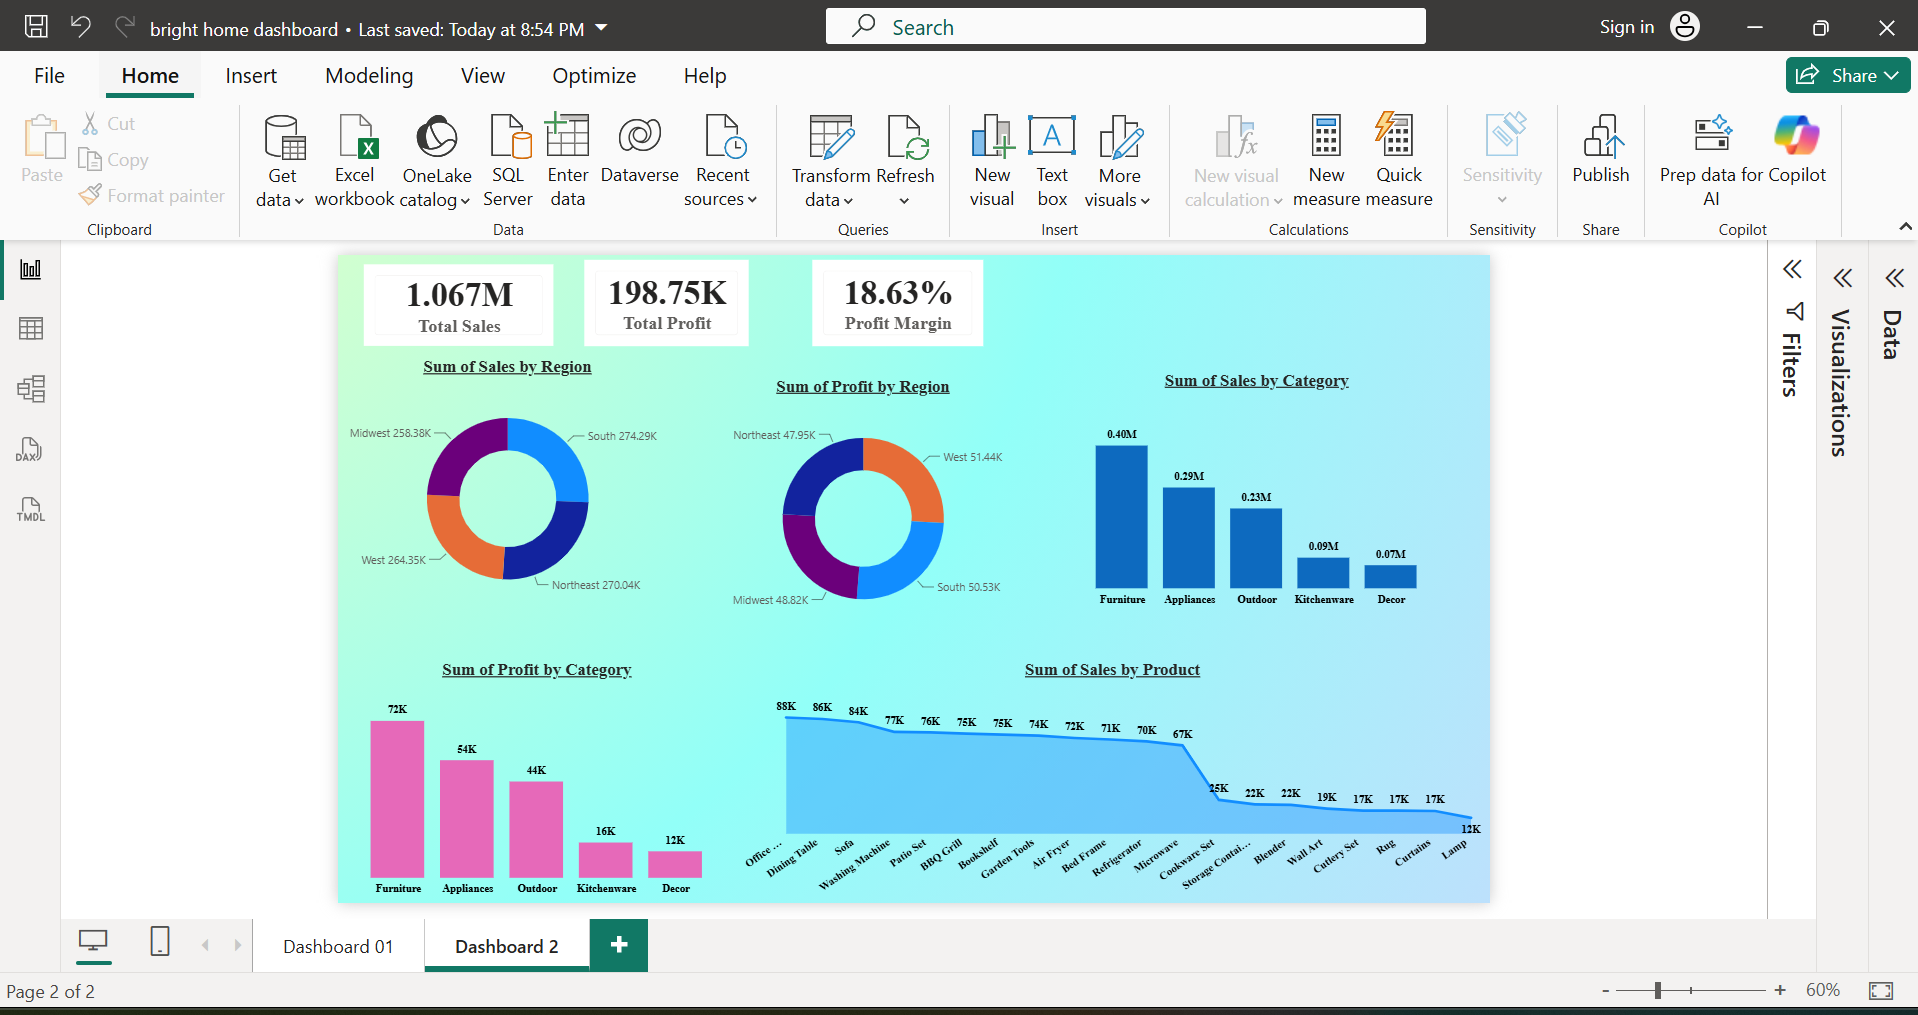

What the dashboard file says about the page in this screenshot:
{"tool":"powerbi","page":{"name":"Dashboard 2","canvas":[1280,720],"ordinal":1},"visuals":[{"type":"cardVisual","title":"fffff","fields":{"Data":["Sum(brighthome_dataset.Revenue)"]},"box":[23.9,4.8,221.7,101.7],"z":0},{"type":"cardVisual","title":"fffff","fields":{"Data":["Sum(brighthome_dataset.Profit)"]},"box":[268.3,0,193.3,106.7],"z":1000},{"type":"cardVisual","title":"fffff","fields":{"Data":["brighthome_dataset.Profit Margin"]},"box":[521.7,0,200,106.7],"z":2000},{"type":"donutChart","fields":{"Category":["brighthome_dataset.Region"],"Y":["Sum(brighthome_dataset.Sales)"]},"box":[0,113.3,376.7,283.3],"z":3000},{"type":"donutChart","fields":{"Category":["brighthome_dataset.Region"],"Y":["Sum(brighthome_dataset.Profit)"]},"box":[398.3,135,370,284],"z":4000},{"type":"columnChart","fields":{"Y":["Sum(brighthome_dataset.Sales)"],"Category":["brighthome_dataset.Category"]},"box":[806,128,428.3,270],"z":5000},{"type":"columnChart","fields":{"Category":["brighthome_dataset.Category"],"Y":["Sum(brighthome_dataset.Profit)"]},"box":[0,450,442,270],"z":6000},{"type":"areaChart","fields":{"Category":["brighthome_dataset.Product"],"Y":["Sum(brighthome_dataset.Sales)"]},"box":[442,450,838,270],"z":7000}]}

Visuals, with their boxes on the page's 1280x720 design canvas (x1, y1, x2, y2). These are canvas units, not pixel positions in the 1918x1015 screenshot, which may show the page scaled, cropped or inside an application window:
"fffff" cardVisual: 24:5:246:106
"fffff" cardVisual: 268:0:462:107
"fffff" cardVisual: 522:0:722:107
donutChart - brighthome_dataset.Region x Sum(brighthome_dataset.Sales): 0:113:377:397
donutChart - brighthome_dataset.Region x Sum(brighthome_dataset.Profit): 398:135:768:419
columnChart - Sum(brighthome_dataset.Sales) x brighthome_dataset.Category: 806:128:1234:398
columnChart - brighthome_dataset.Category x Sum(brighthome_dataset.Profit): 0:450:442:720
areaChart - brighthome_dataset.Product x Sum(brighthome_dataset.Sales): 442:450:1280:720
